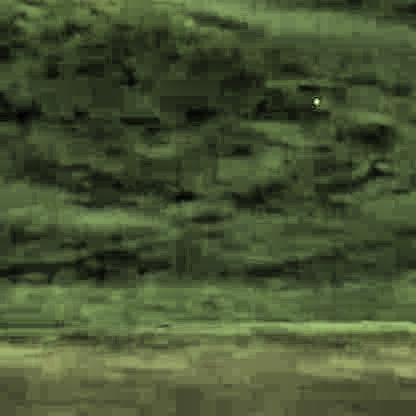golfball: (310, 93, 317, 103)
